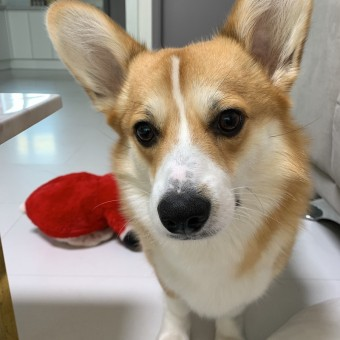pet: (44, 2, 307, 340)
